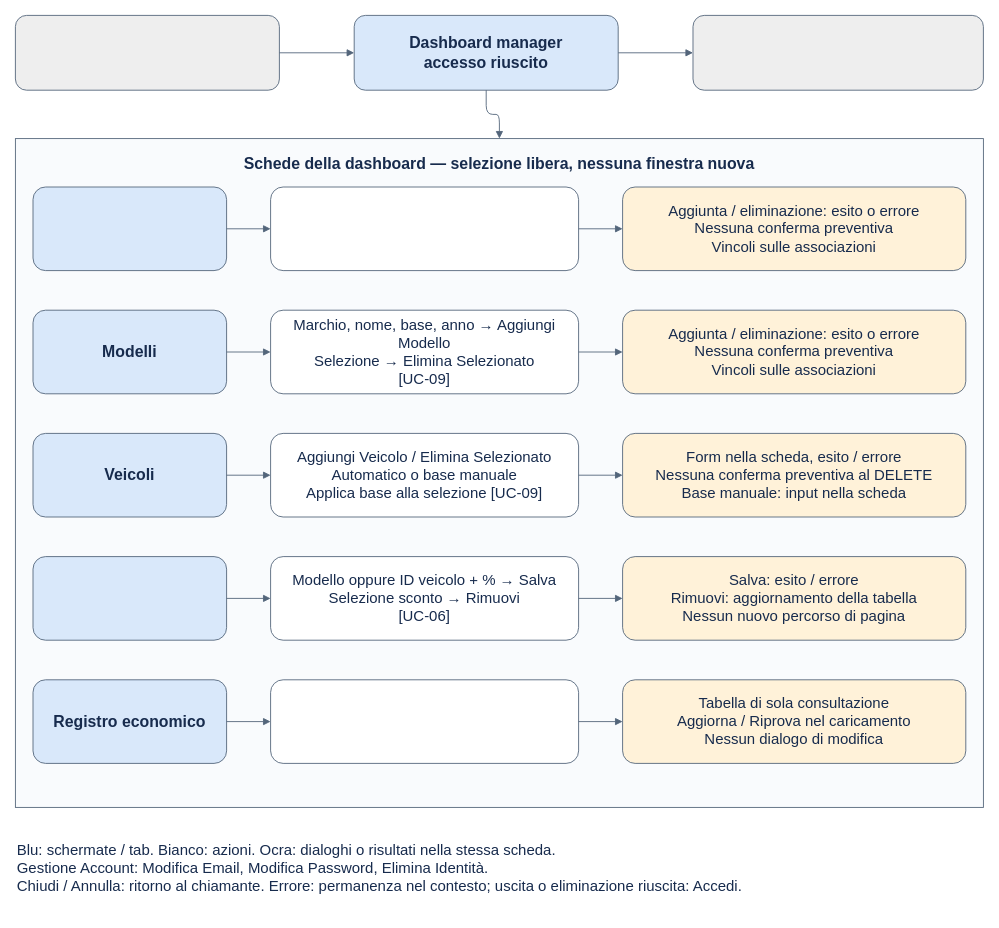
This 999x928 diagram has some shape labels left out. Each missing label, with the centre of its shape:
Accedi [UC-S02] Registrati [UC-S01, solo cliente]: point 147,52
Consulta vendite al cliente, acquisti dal cliente e penali [UC-10]: point 424,721
Header: Gestione Account [UC-S03] Disconnetti → Accedi: point 837,52
Marchi: point 129,228
Nome → Aggiungi Brand Selezione → Elimina Selezionato [UC-09]: point 424,228
Sconti: point 129,598
